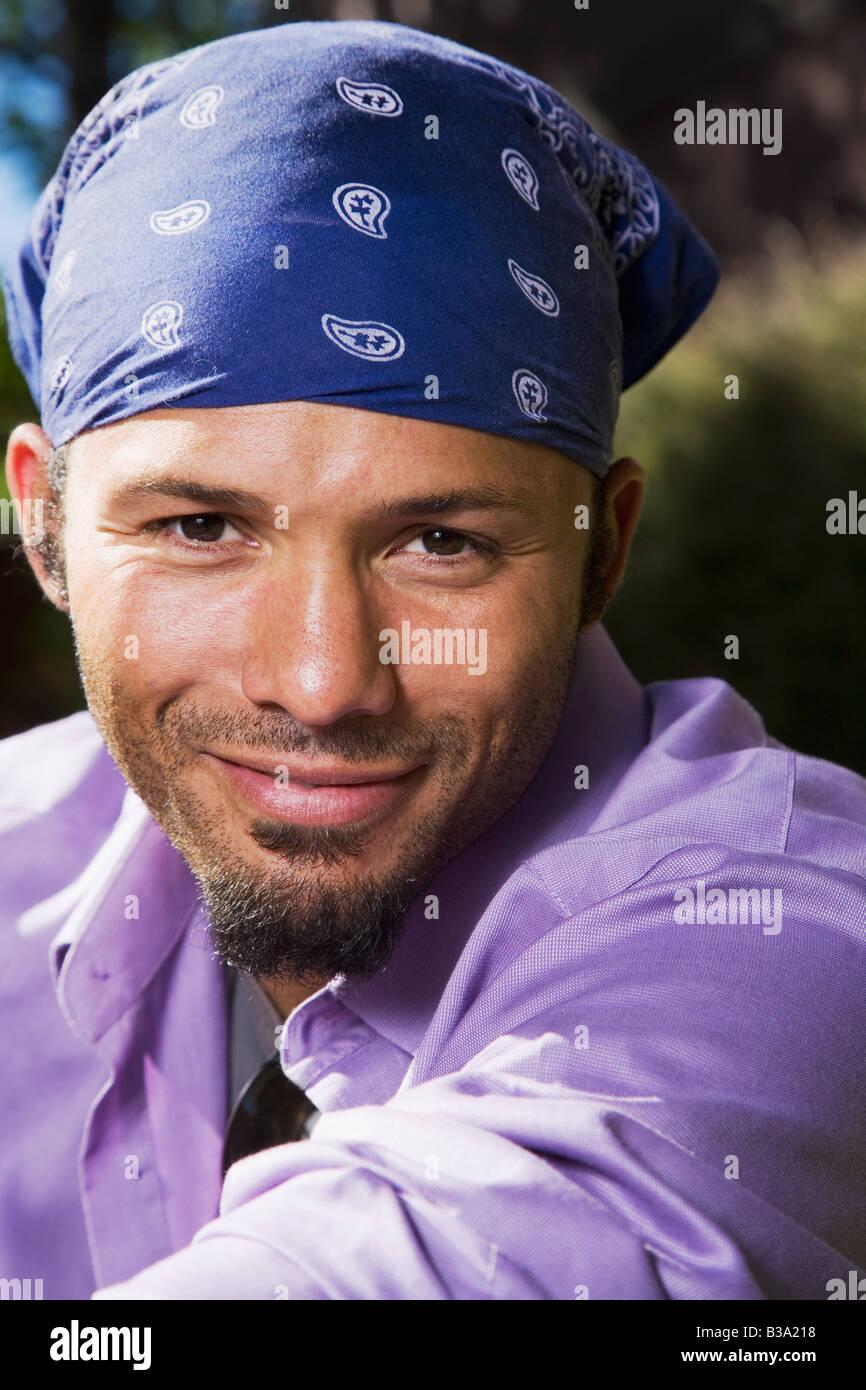cap: (17, 3, 730, 497)
